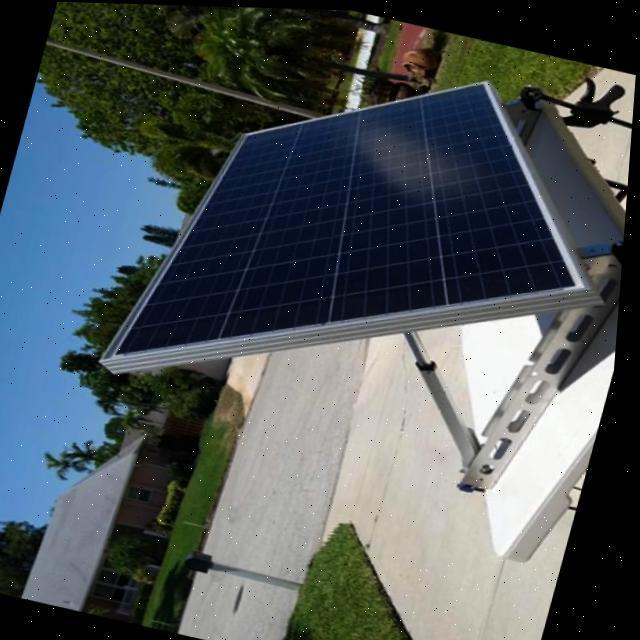Normal Solar Panel: (103, 12, 640, 460)
